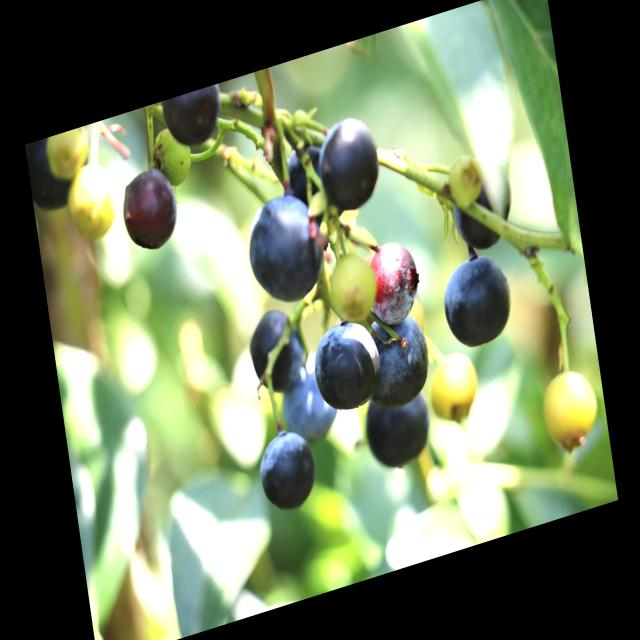blueberry: (238, 176, 336, 312), (353, 294, 440, 419), (434, 241, 520, 360), (442, 148, 523, 266), (310, 99, 388, 219), (307, 312, 390, 421), (359, 378, 442, 484), (242, 296, 318, 406), (250, 416, 328, 522), (156, 81, 234, 161), (275, 124, 337, 220)
blueberry-halfripe: (118, 162, 182, 259), (364, 233, 424, 324)
blueberry-unripe: (324, 240, 386, 328), (63, 157, 123, 246), (538, 365, 600, 451), (427, 348, 481, 424), (146, 120, 194, 192), (40, 125, 93, 188)
